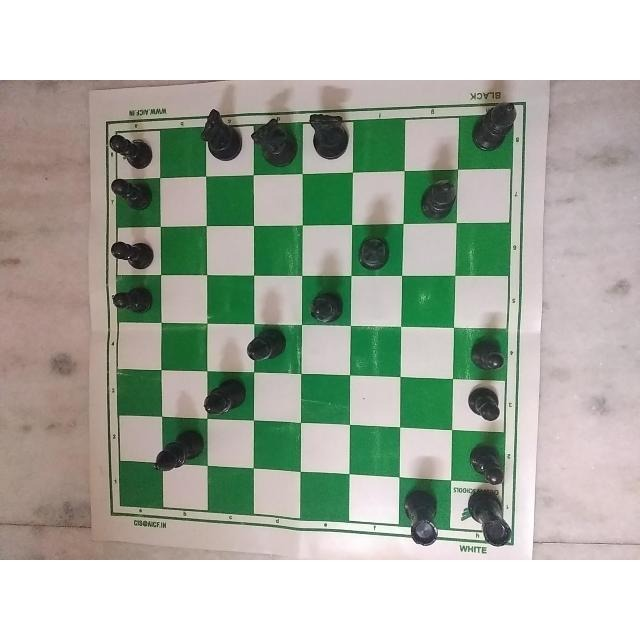black-bishop: (466, 94, 520, 155), (151, 429, 202, 479), (414, 174, 457, 228), (198, 374, 245, 418), (242, 322, 296, 360), (306, 281, 345, 325), (360, 230, 399, 272)
black-knight: (246, 108, 298, 165), (194, 104, 246, 160), (301, 109, 353, 165)
black-pawn: (100, 130, 160, 168), (470, 335, 513, 383), (462, 444, 508, 486), (105, 282, 154, 319), (465, 385, 507, 427), (103, 181, 153, 213), (109, 237, 153, 272)
black-rook: (466, 490, 516, 550), (403, 485, 443, 546)
